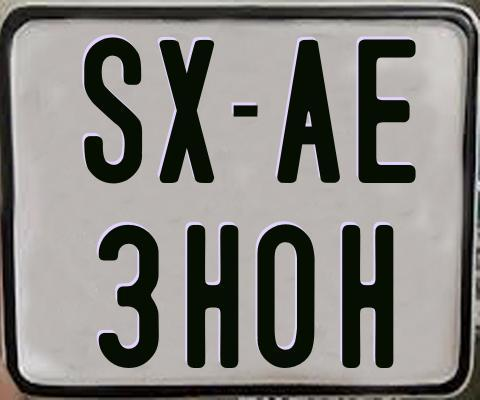0: (254, 221, 315, 368)
3: (97, 224, 162, 372)
A: (275, 40, 344, 186)
E: (356, 38, 420, 185)
H: (342, 223, 399, 368), (186, 224, 242, 368)
S: (82, 34, 142, 185)
X: (158, 37, 218, 185)
